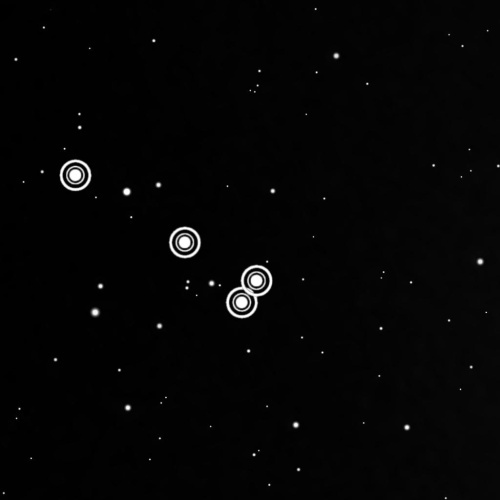sagitta: (48, 155, 291, 329)
